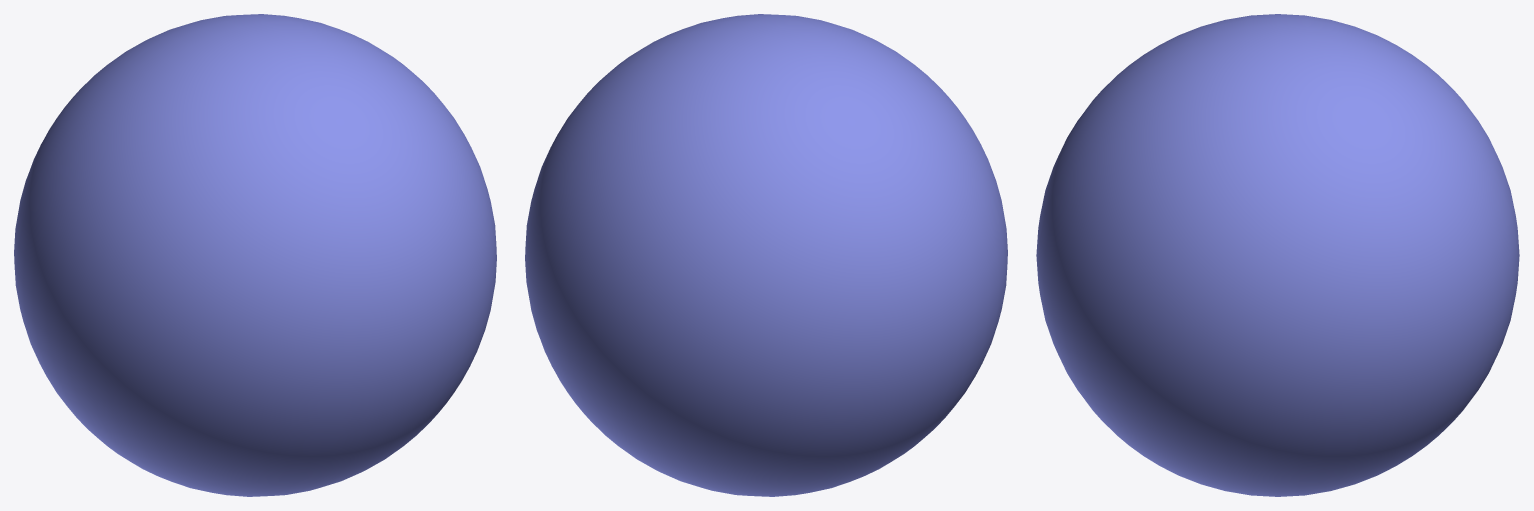
File: Kugel.gltf
3 renders of one model, left to right at view 1: azimuth 30°, elevation 25°; view 2: azimuth 150°, elevation 25°; view 3: azimuth 270°, elevation 25°, orthographic.
Parts seen in each view (by area): view 1: root; view 2: root; view 3: root.
Boxes of the visible parts, x1=… form: root: x1=14, y1=14, x2=496, y2=496; root: x1=525, y1=14, x2=1007, y2=496; root: x1=1036, y1=14, x2=1519, y2=496.
Size of the model in its own units: 0.3549 by 0.3549 by 0.3549.
